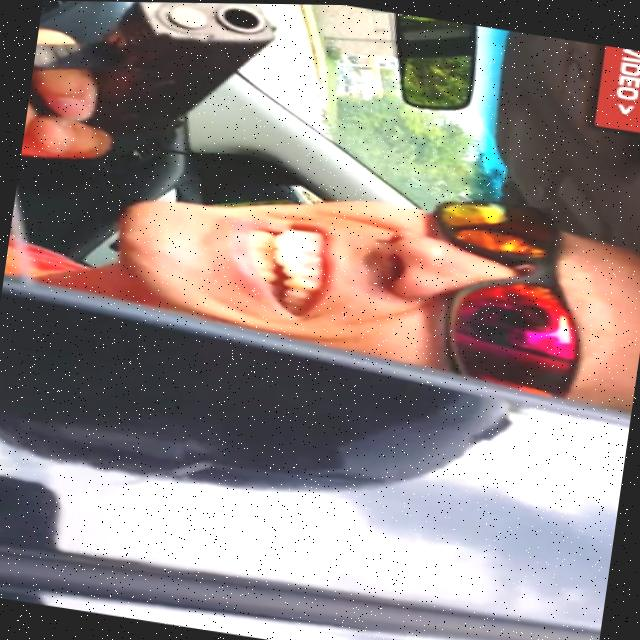pistol: (24, 0, 285, 163)
